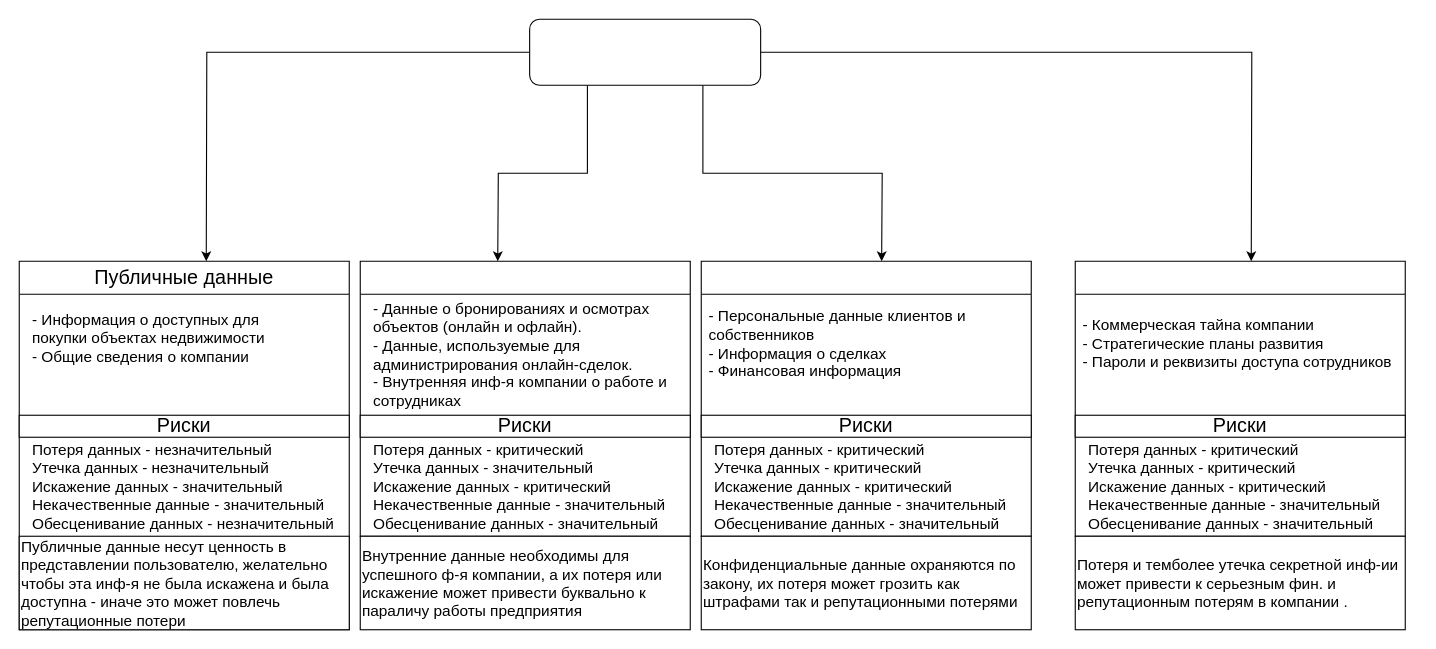
Some shapes in this 1436 by 649 pixel diagram are drawn without their labels. Here are the shapes that lost their labels. From the top down, the box of each, then its label:
(529, 18, 761, 85): Безопасность данных PropDevelopment
(359, 260, 690, 536): Внутренние данные
(700, 260, 1031, 536): Конфиденциальные данные
(1074, 260, 1405, 536): Секретные данные
